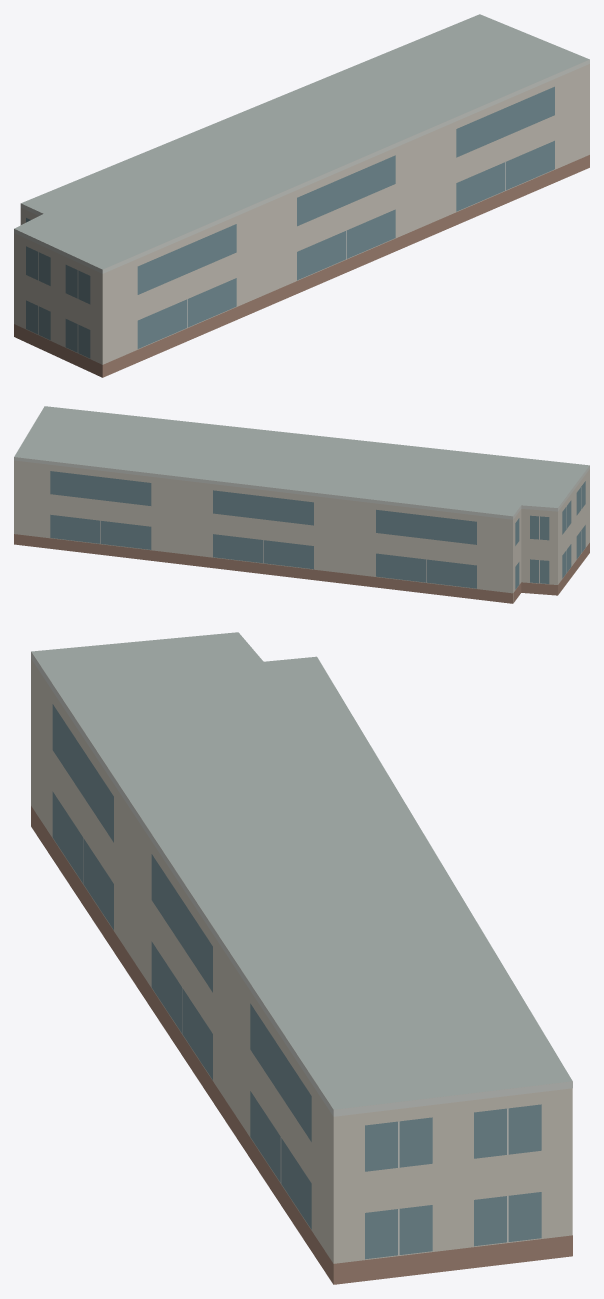
File: survey-upis-32648485.glb
3 views of the same model, one above another, from view 1: azimuth 30°, elevation 25°; view 2: azimuth 150°, elevation 25°; view 3: azimuth 270°, elevation 25° (orthographic). The views are drawn at different scales.
Parts seen in each view (by area): view 1: survey-upis-32648485.tmp; view 2: survey-upis-32648485.tmp; view 3: survey-upis-32648485.tmp.
Boxes of the visible parts, x1=… form: survey-upis-32648485.tmp: x1=14, y1=14, x2=589, y2=377; survey-upis-32648485.tmp: x1=14, y1=406, x2=589, y2=603; survey-upis-32648485.tmp: x1=31, y1=632, x2=572, y2=1284.
Bounding box in the file's own units: 35.73 × 6.1 × 17.13.
